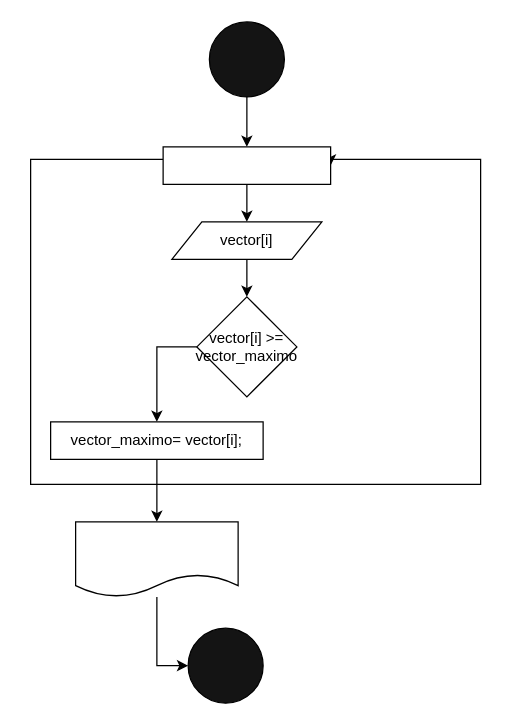
This 513x725 diagram has some shape labels left out. Each missing label, with the centre of its shape:
"El valor maximo es: %i\n",vector_maximo: the point at 156,559
Para i = 0; i < 3; ++i: the point at 246,165
